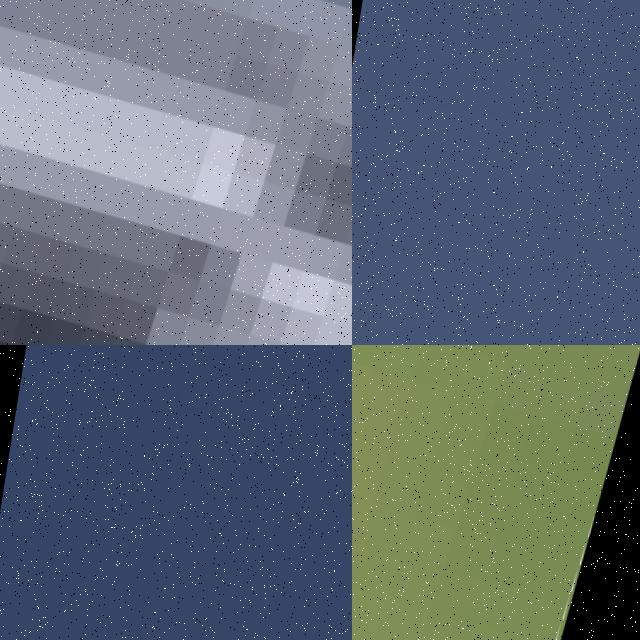0: (0, 0, 352, 345)
drone: (352, 345, 640, 640)
